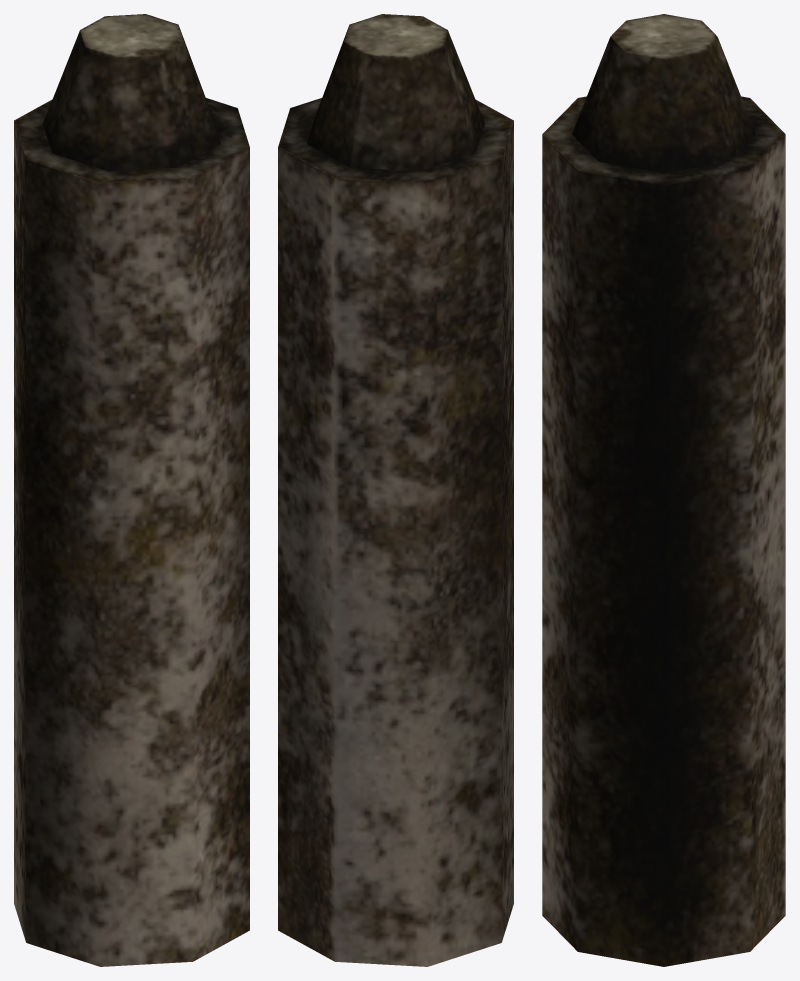
File: ExtPipe_08.FBX
The picture shows the model from 3 angles, left to right: view 1: azimuth 30°, elevation 25°; view 2: azimuth 150°, elevation 25°; view 3: azimuth 270°, elevation 25°; orthographic projection.
Visible parts, largest first — view 1: ExtPipe_08; view 2: ExtPipe_08; view 3: ExtPipe_08.
Part boxes in pixels (<box>): ExtPipe_08: <box>14,14,249,966</box>; ExtPipe_08: <box>278,14,513,966</box>; ExtPipe_08: <box>542,14,785,966</box>.
Size of the model in its own units: 12 by 47.76 by 12.
